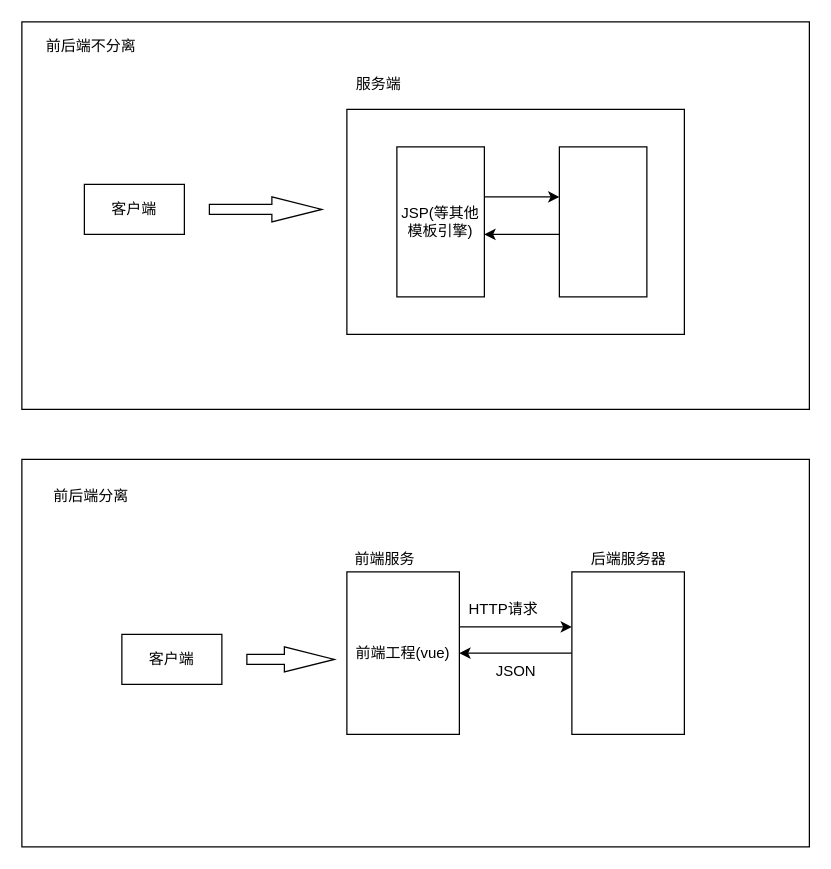
This 831x869 diagram has some shape labels left out. Here are the shapes that lost their labels. From the top down, the centre of each, then its label:
At point (602, 221): "后台服务(Java)".
At point (627, 652): "Java server".
